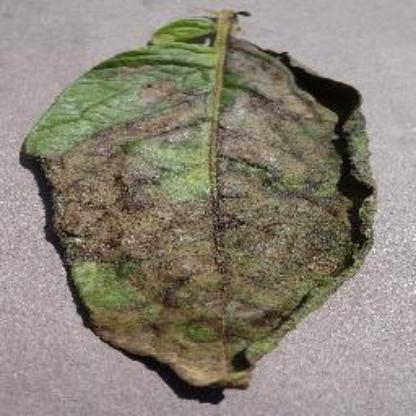Late-Blight: (21, 6, 390, 400)
